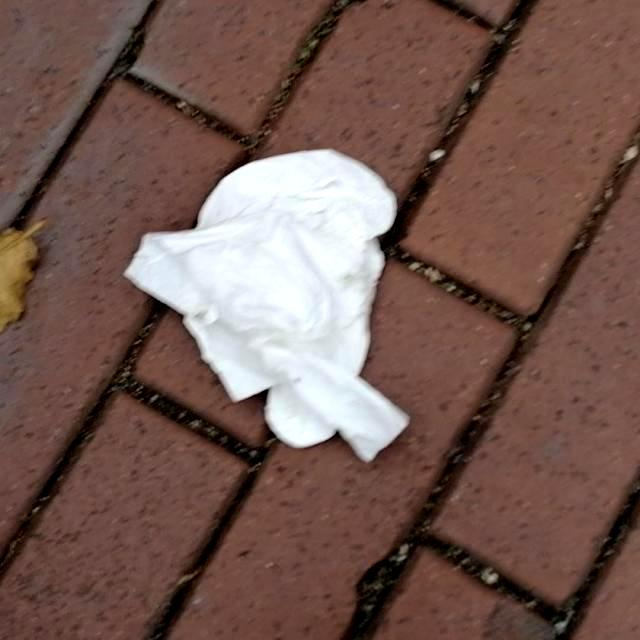Paper: (121, 146, 411, 462)
